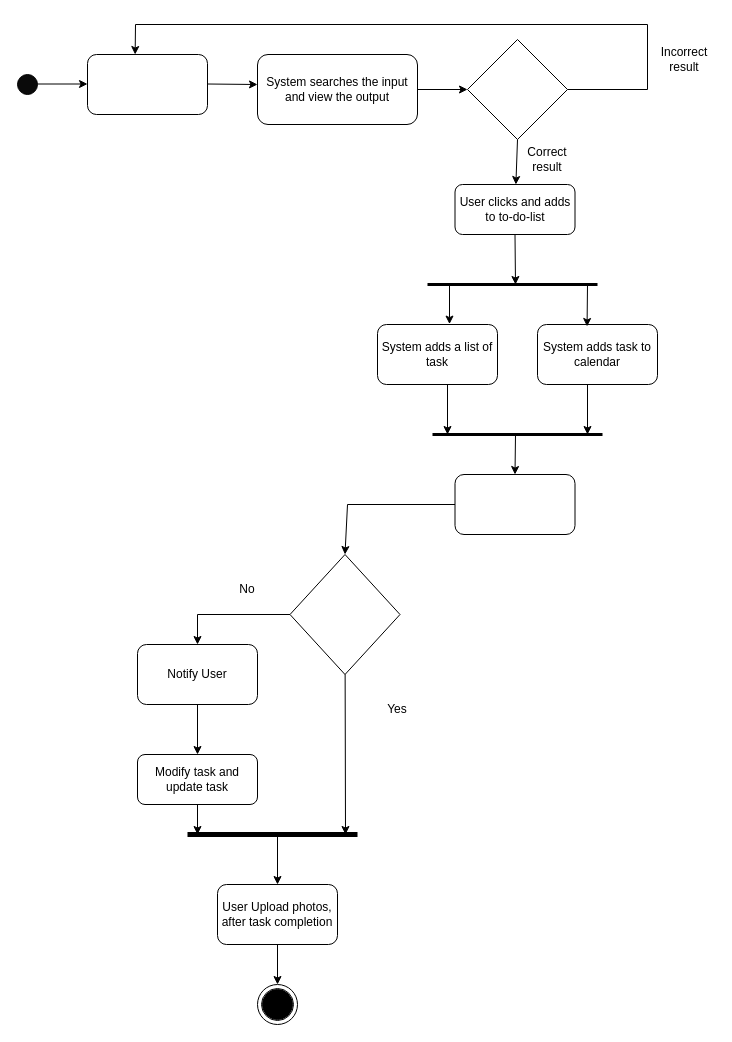
Some shapes in this 732 by 1042 pixel diagram are drawn without their labels. Here are the shapes that lost their labels. From the top down, the centre of each, then its label:
At point 147,84: "User Inputs a vegetable name".
At point 517,89: "User checks the result".
At point 514,504: "User checks task and perform them".
At point 344,614: "User updates completed tasks".
